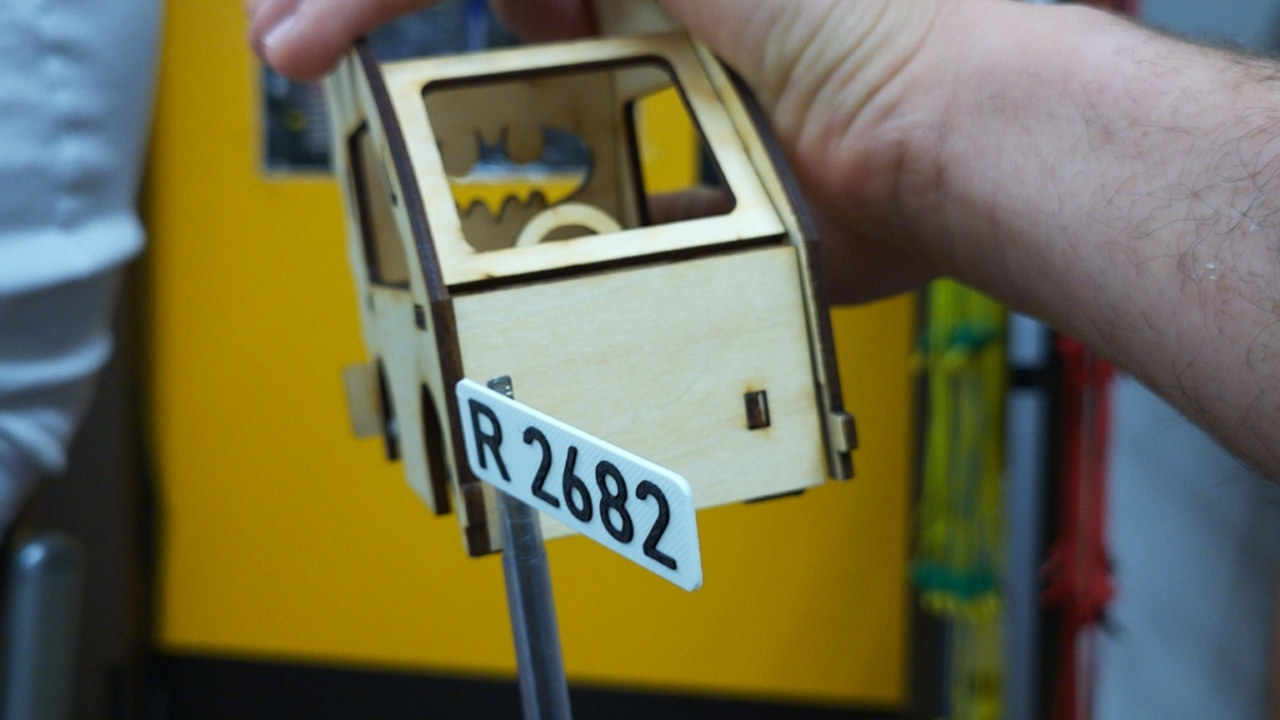license_plate: (453, 374, 705, 595)
